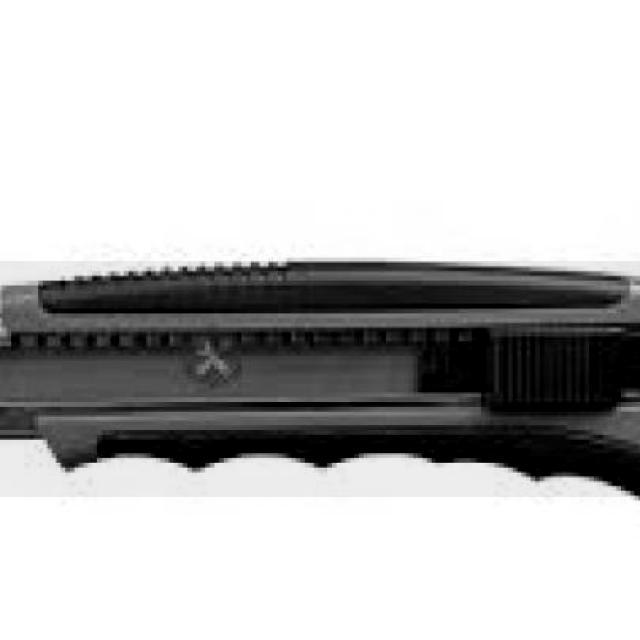estilete: (0, 262, 640, 497)
